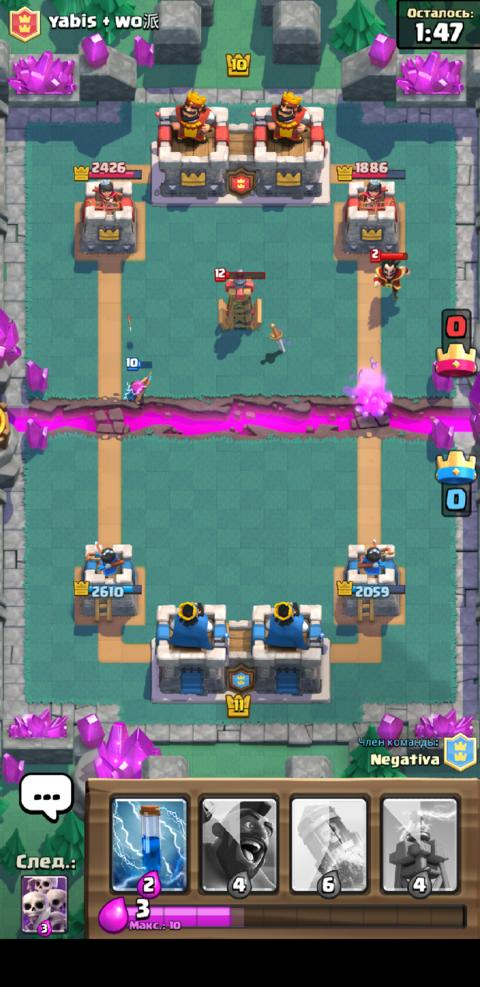ally_archer: (121, 357, 154, 409)
enemy_electro_wizard: (367, 247, 409, 301)
enemy_tesla: (212, 265, 266, 332)
